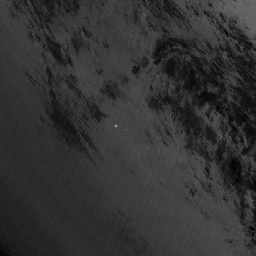Target: (112, 122, 119, 128)
